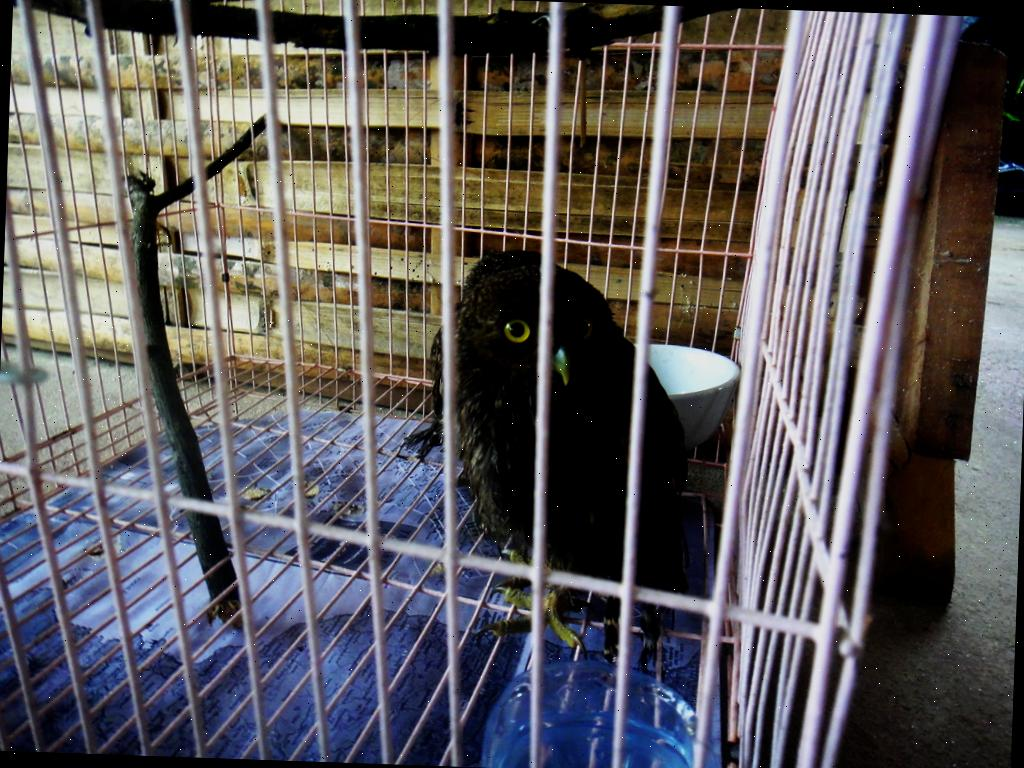Owl: (402, 243, 702, 664)
